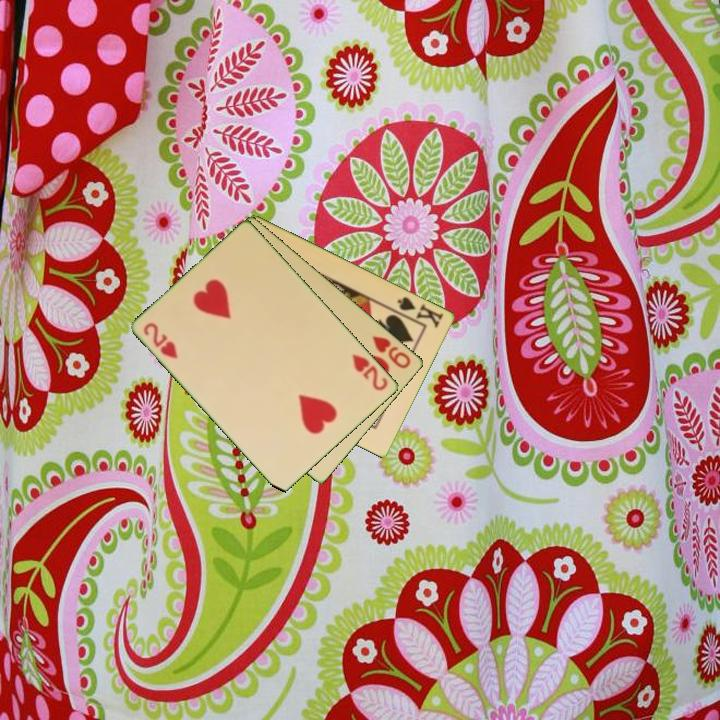2h: (349, 350, 391, 394), (140, 319, 181, 362)
9h: (369, 332, 414, 372)
Ks: (390, 293, 447, 331)
